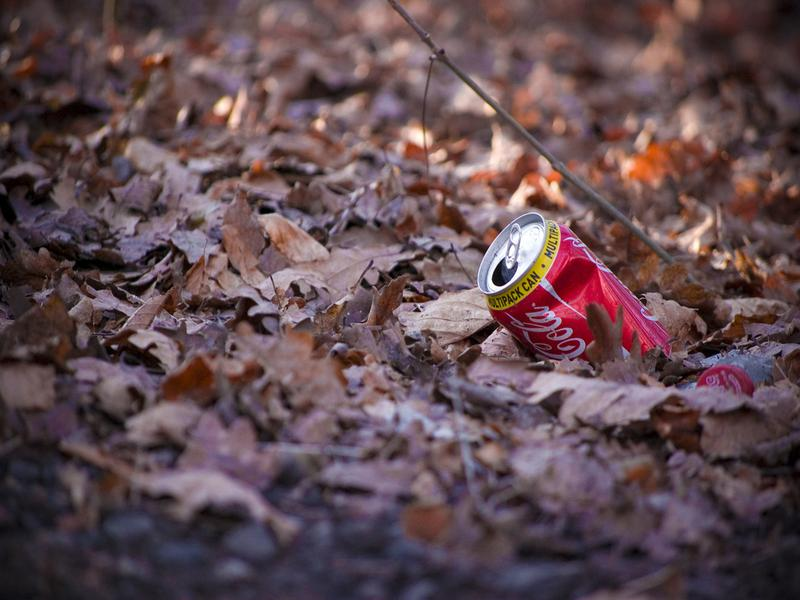can: (472, 209, 687, 382)
leaf: (390, 285, 495, 351), (98, 284, 184, 354), (217, 186, 274, 290), (252, 207, 335, 268), (635, 284, 710, 351), (688, 307, 796, 353), (365, 264, 416, 331), (160, 222, 215, 269)
